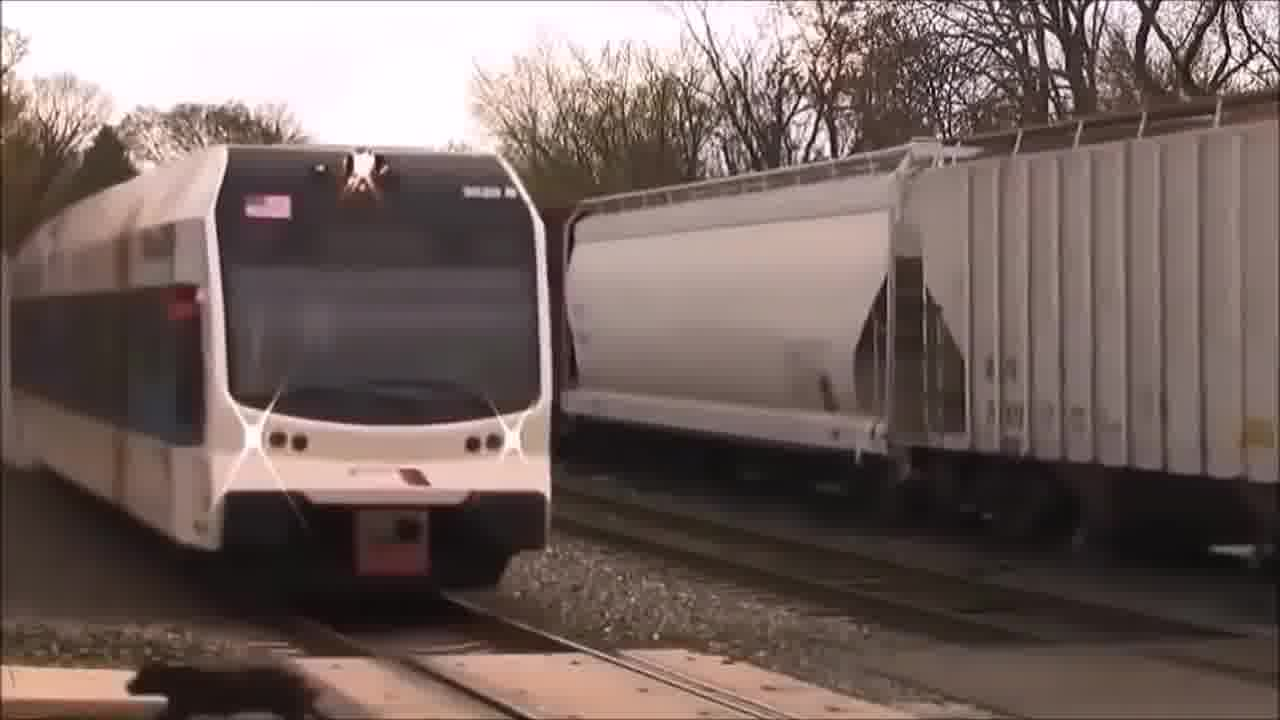crossing railway track: (123, 517, 906, 720)
